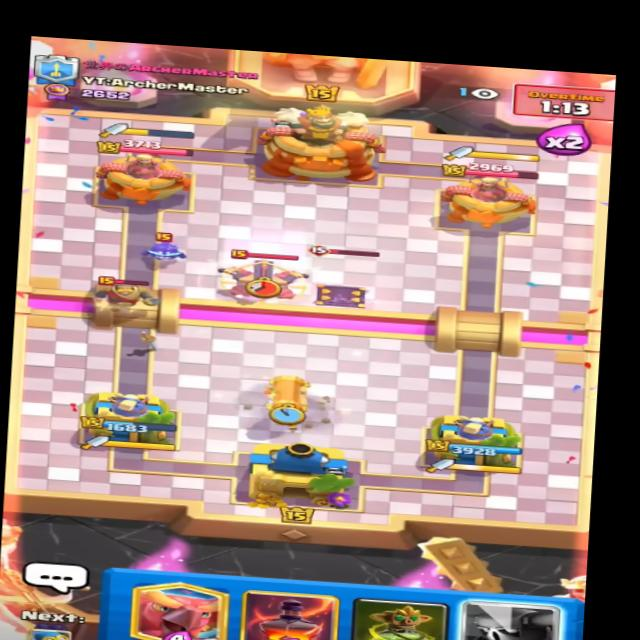electro-spirit: (140, 226, 203, 269)
evo-tesla-closed: (294, 245, 387, 314)
knight: (91, 271, 156, 313)
x-bow: (213, 246, 309, 306)
